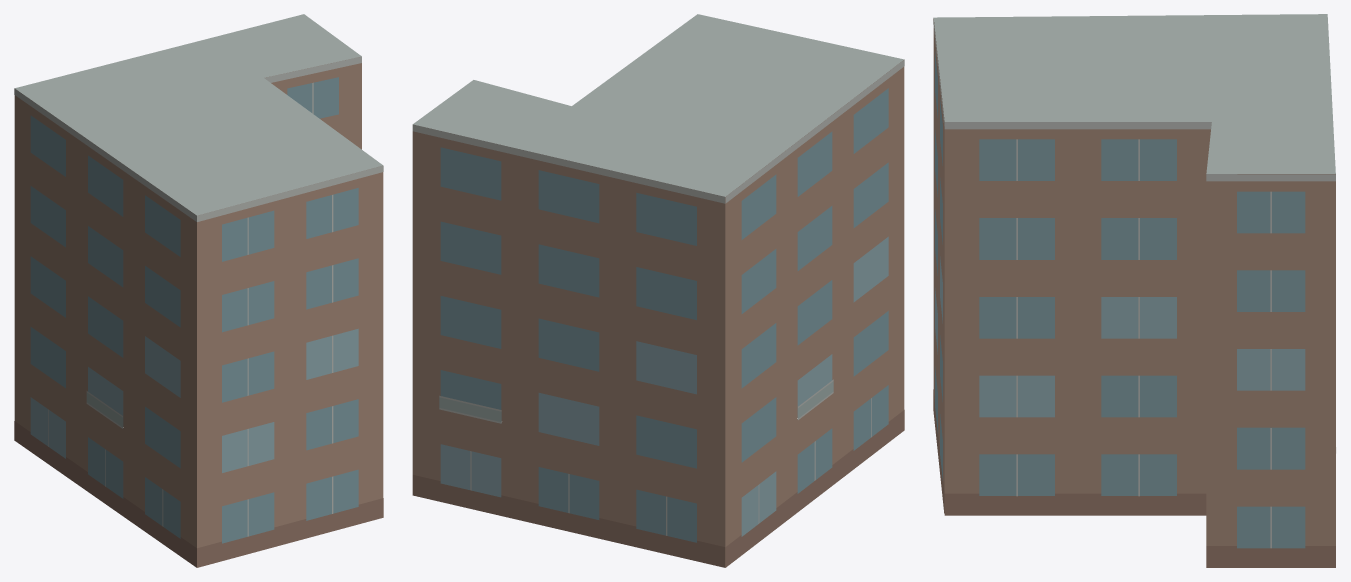
File: survey-upis-32924752.glb
The picture shows the model from 3 angles, left to right: view 1: azimuth 30°, elevation 25°; view 2: azimuth 150°, elevation 25°; view 3: azimuth 270°, elevation 25°; orthographic projection. The views are drawn at different scales.
Visible parts, largest first — view 1: survey-upis-32924752.tmp; view 2: survey-upis-32924752.tmp; view 3: survey-upis-32924752.tmp.
Boxes of the visible parts, <box> form: survey-upis-32924752.tmp: <box>14,14,383,567</box>; survey-upis-32924752.tmp: <box>412,14,904,567</box>; survey-upis-32924752.tmp: <box>933,14,1336,567</box>.
Bounding box in the file's own units: 11.43 × 13.1 × 12.15.
